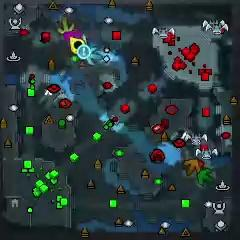p3: (63, 30, 83, 41)
p4: (70, 37, 81, 56)
p4Clone: (74, 39, 84, 51)
x2: (58, 17, 75, 34)
x3: (85, 47, 102, 65)
x4: (196, 168, 214, 186)
x5: (183, 158, 200, 175)
